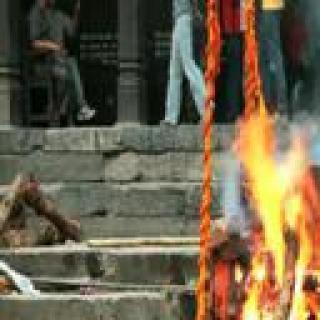fire: (233, 109, 320, 320)
